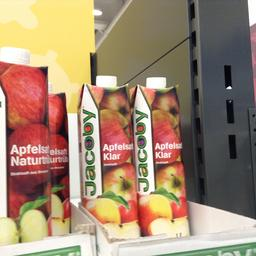juice: (76, 74, 140, 239), (0, 47, 50, 246), (132, 76, 190, 236)
